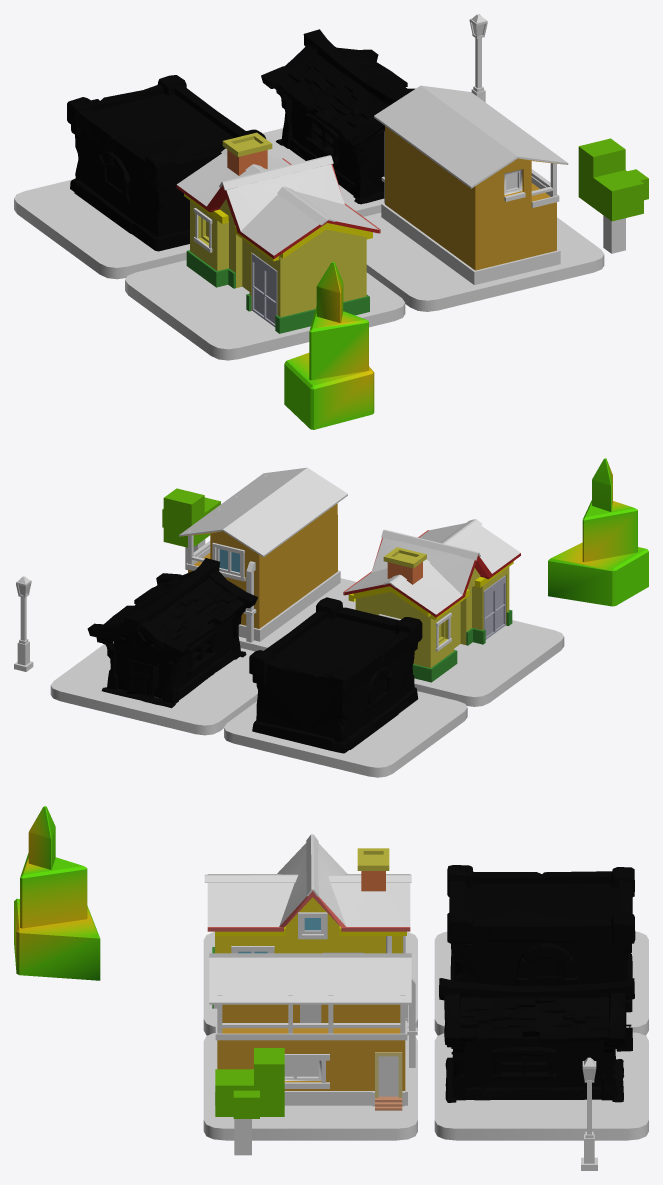
The model's file is intercesion_m.fbx.
3 renders of one model, top to bottom at view 1: azimuth 30°, elevation 25°; view 2: azimuth 150°, elevation 25°; view 3: azimuth 270°, elevation 25°, orthographic. The views are drawn at different scales.
Visible parts, largest first — view 1: intercesion_m; view 2: intercesion_m; view 3: intercesion_m.
Part boxes in pixels (x1,y1,x2,y2): intercesion_m: (14, 14, 648, 429); intercesion_m: (14, 458, 648, 777); intercesion_m: (14, 806, 648, 1170).
Bounding box in the file's own units: 2091 × 657 × 2455.
